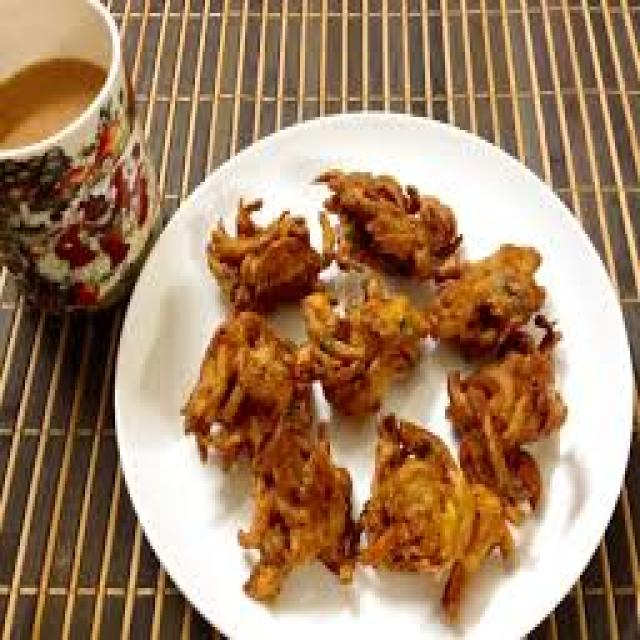BAJI: (359, 356, 574, 610), (190, 308, 362, 620), (312, 157, 462, 273), (305, 282, 423, 421), (435, 233, 563, 352), (206, 201, 328, 311)
